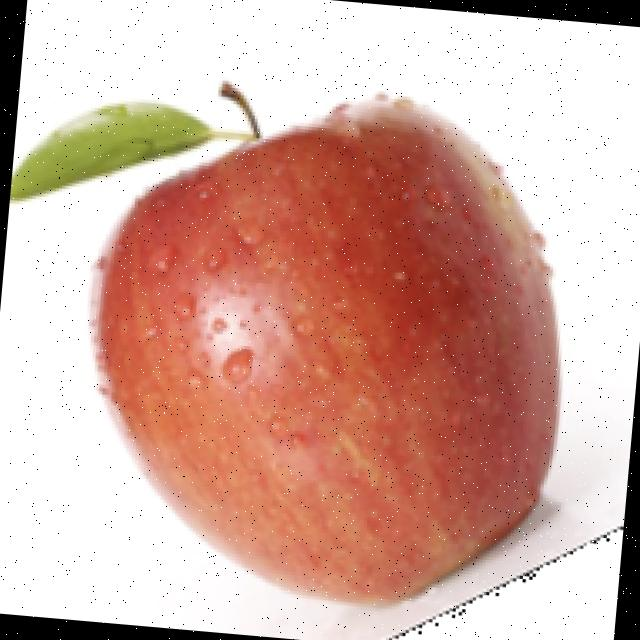apple: (9, 74, 610, 640)
